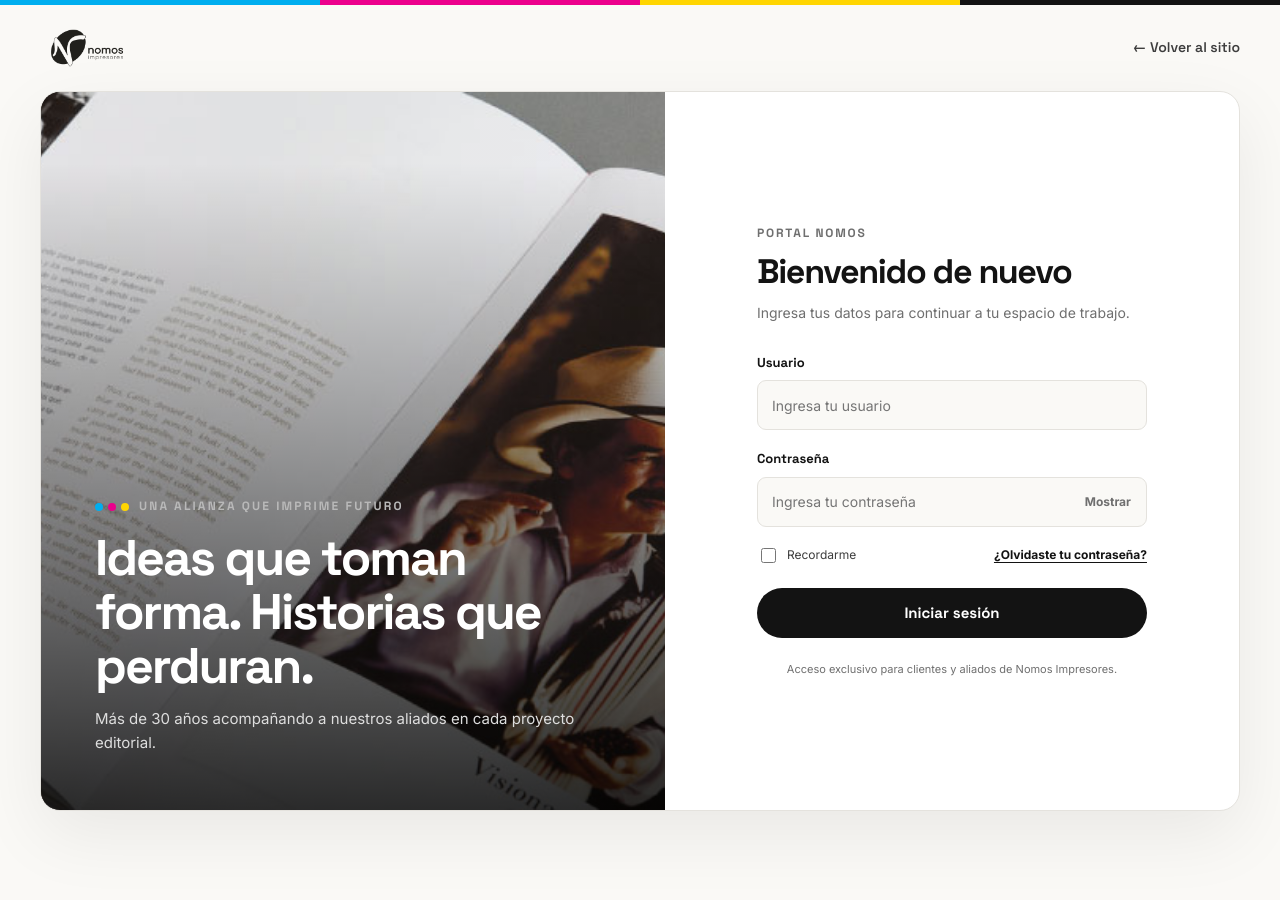
Test: AuthenticationPage › logs in through the database module
Step 1. Type "admin" into the field labelled "Usuario" → x=952, y=405, box [757, 380, 1147, 430]
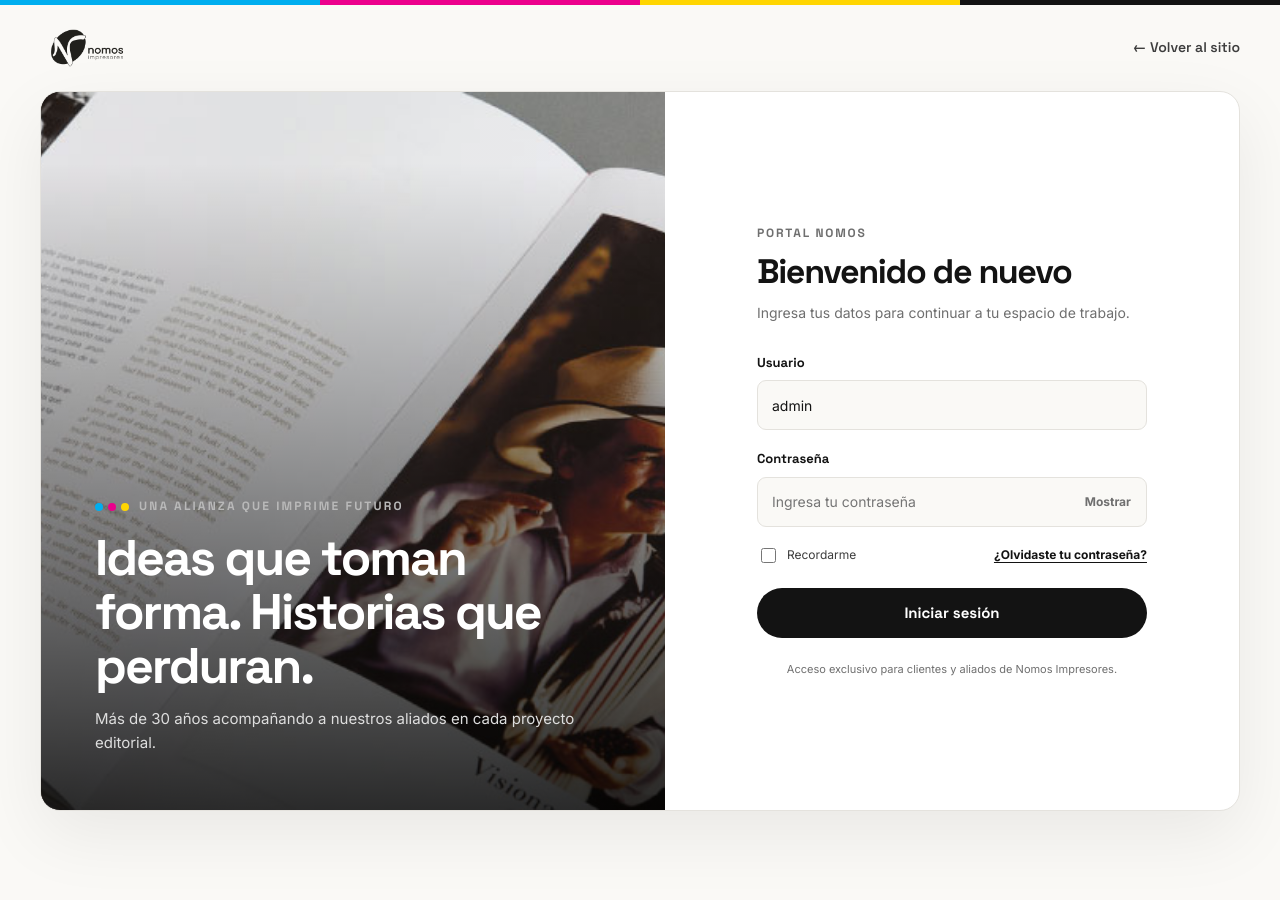
Step 2. Type "secret" into the password field labelled "Contraseña" → x=952, y=502, box [757, 477, 1147, 527]
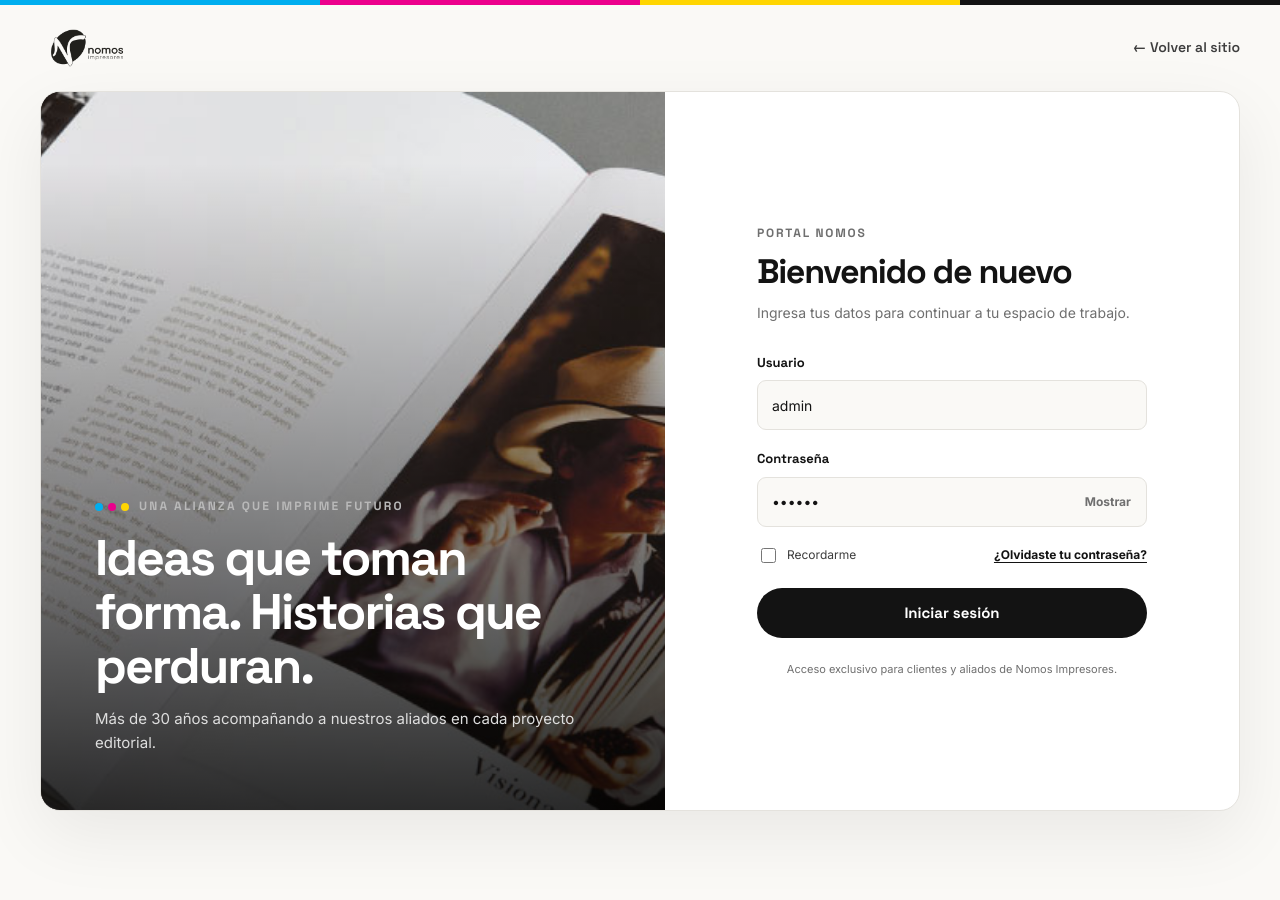
Step 3. Click the button "Iniciar sesión" → x=952, y=613, box [757, 588, 1147, 638]
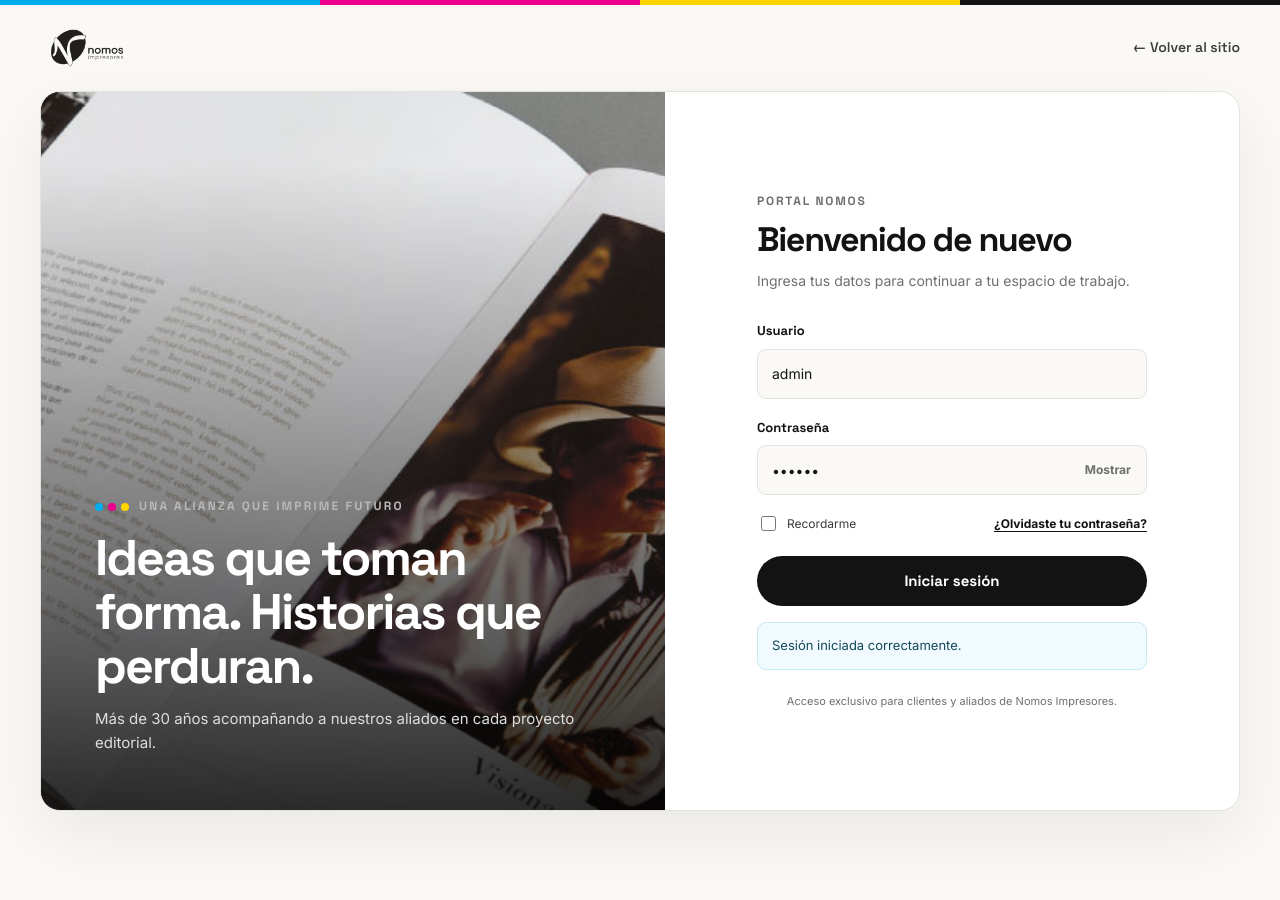
Result: the message shows "Sesión iniciada" at [772, 637, 962, 653]
